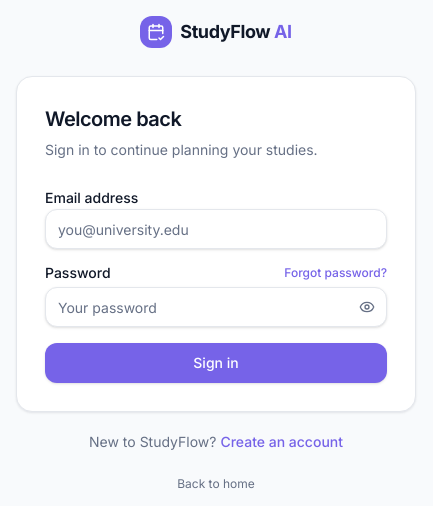
Test case: sign-in › scenario 5: show/hide toggles password visibility
Type "secret-password" into the password field labelled "Password" at (216, 307), box [45,287,387,327]
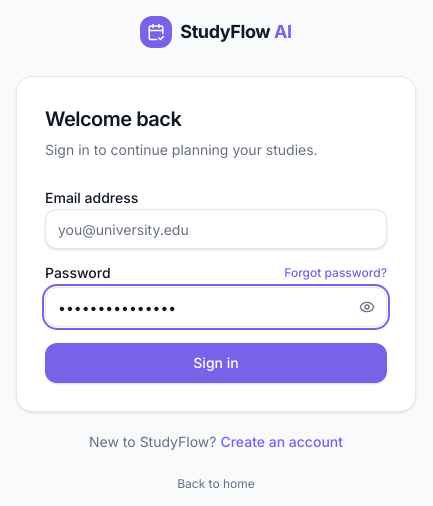
Click the button named "Show password" at (367, 307), box [347,287,387,327]
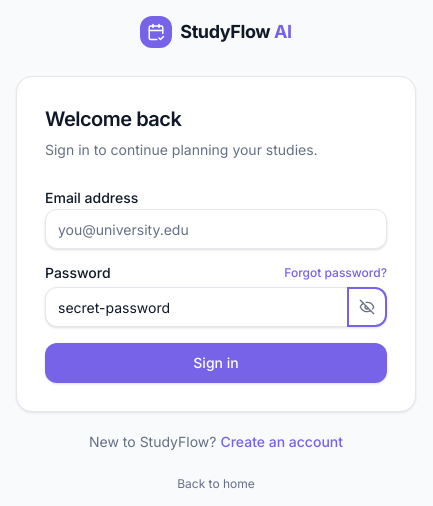
Expected: the field labelled "Password" shows its text, [45,287,387,327]
Click the button named "Hide password" at (367, 307), box [347,287,387,327]
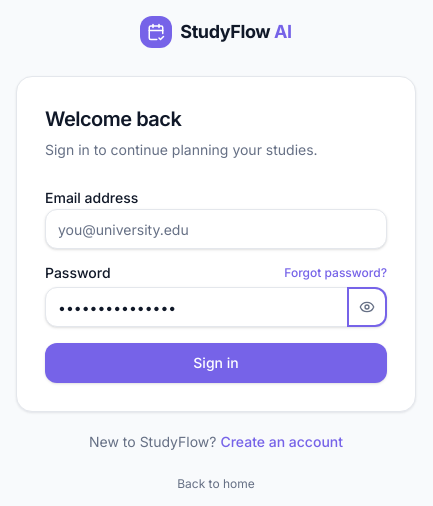
Expected: the password field labelled "Password" hides its text, [45,287,387,327]
